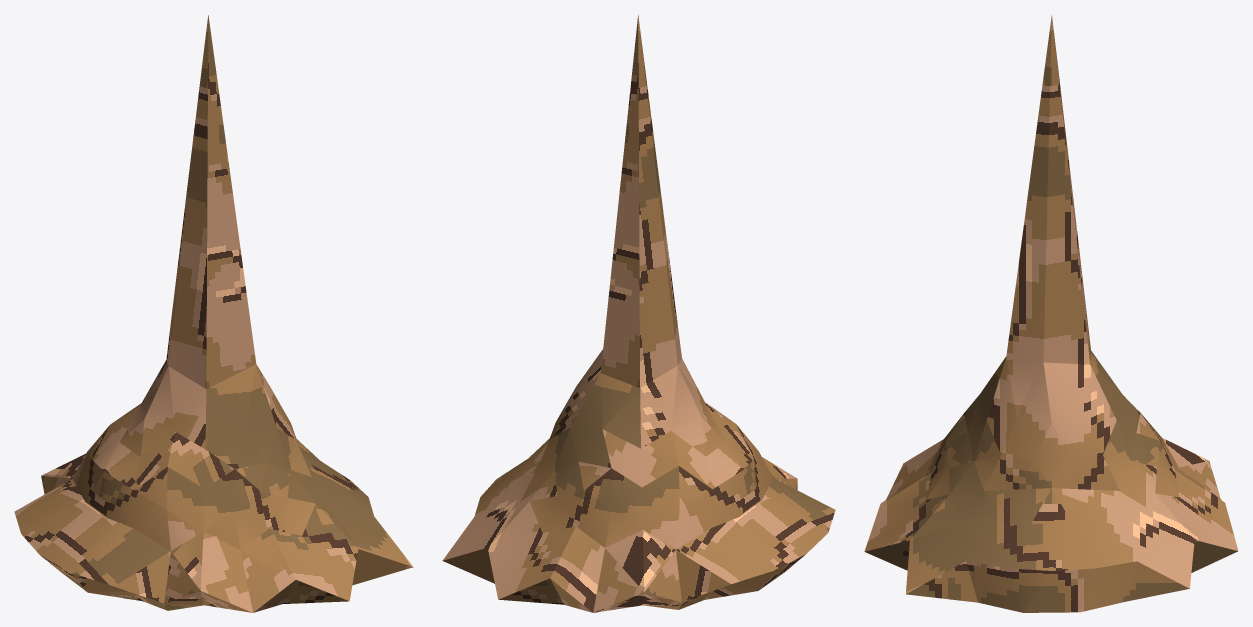
Rendered from stalagmite-300-9.glb.
The picture shows the model from 3 angles, left to right: view 1: azimuth 30°, elevation 25°; view 2: azimuth 150°, elevation 25°; view 3: azimuth 270°, elevation 25°; orthographic projection. The views are drawn at different scales.
Bounding box in the file's own units: 0.5724 × 0.9943 × 0.6009.
Materials: 1 (1 with a texture image).
